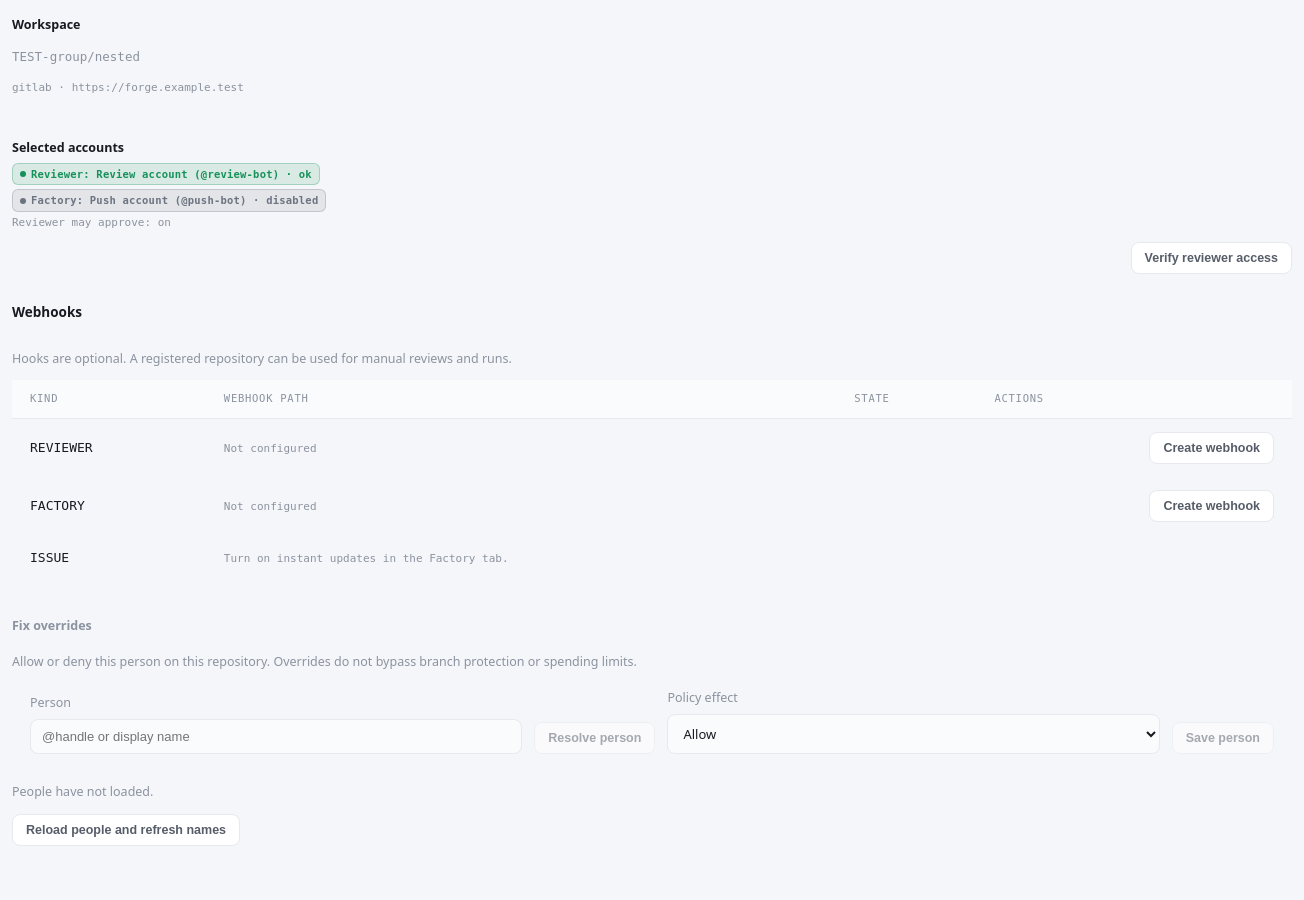
Test: RepositoryDetail › verifies the full namespace with the selected reviewer and names a failure
Step 1. Click the button "Verify reviewer access" → [1211, 258], box [1130,242,1292,274]
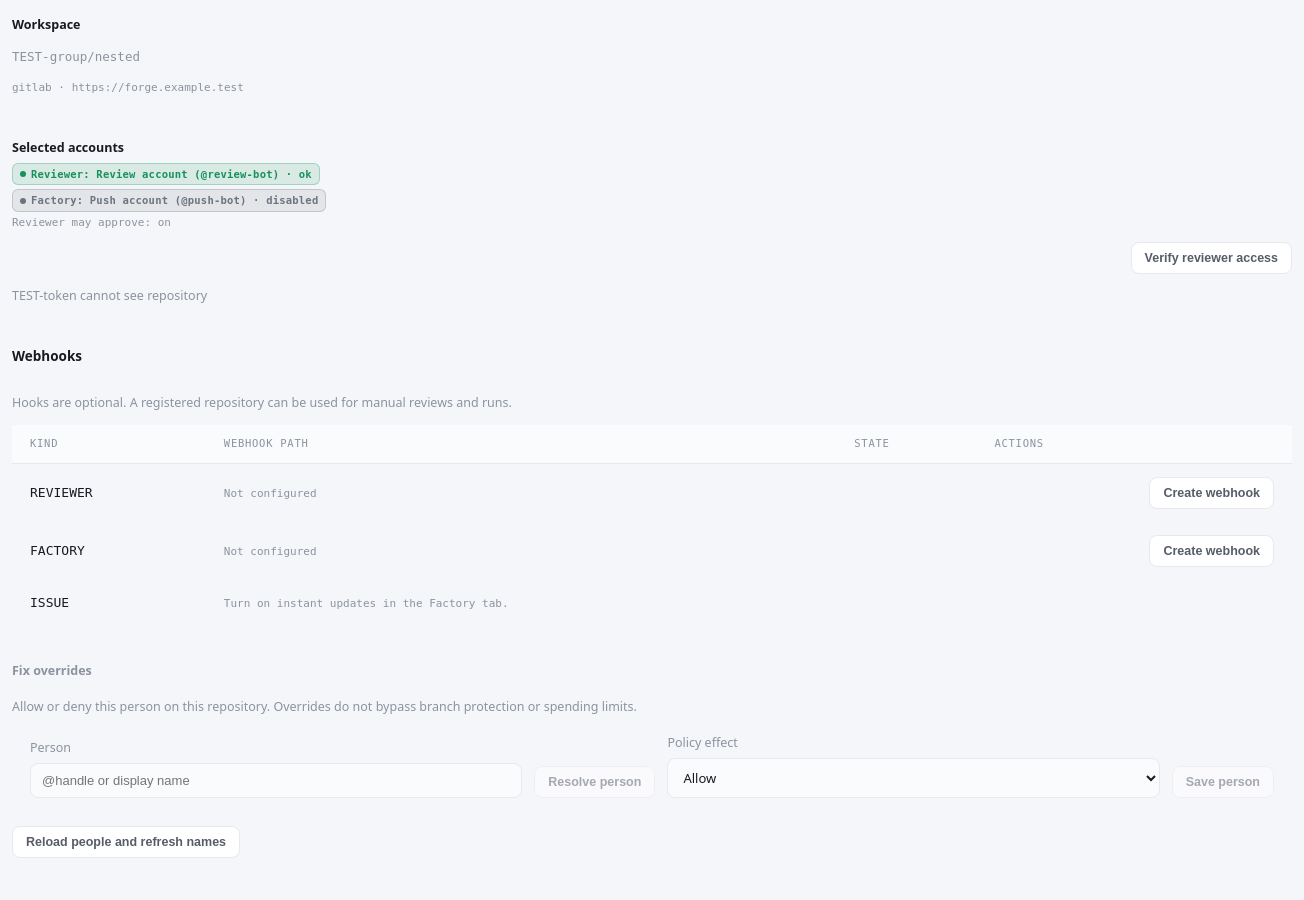
Check: the message reads "TEST-token cannot see repository", box [12,287,207,304]
